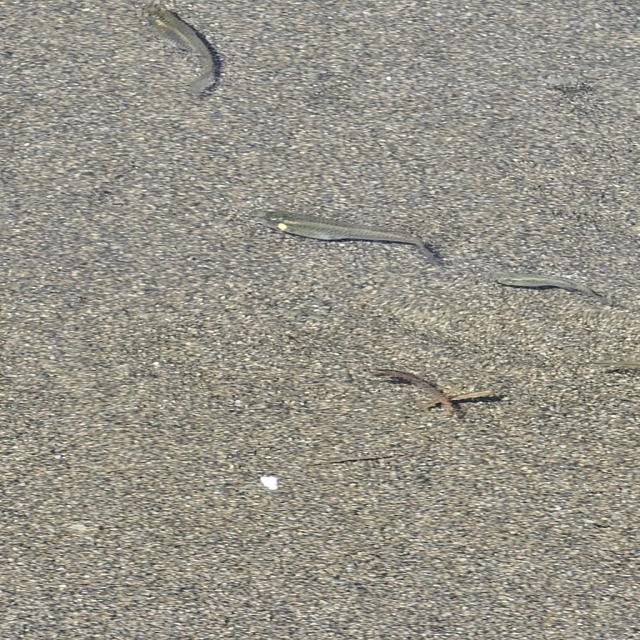Sivrisinek Baligi: (257, 202, 439, 258), (135, 1, 232, 95), (483, 264, 607, 302)
